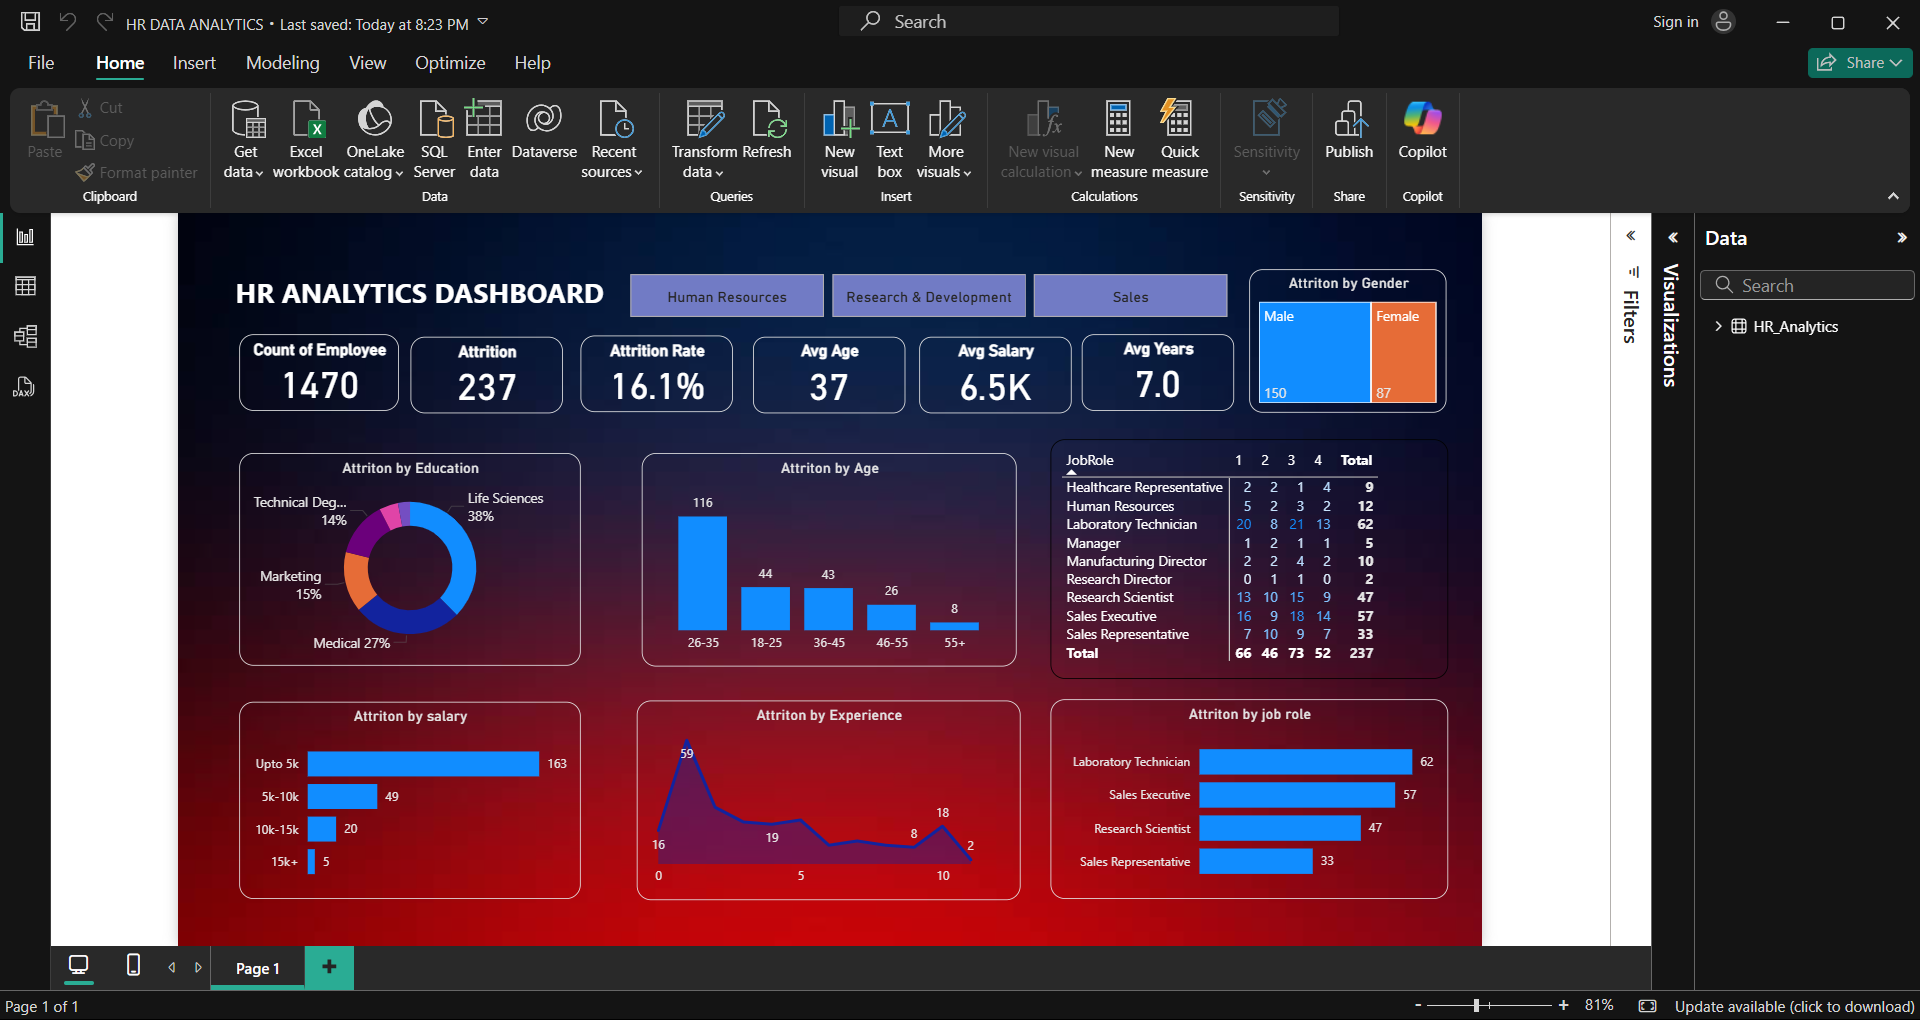

Layout of this report page (visuals, bound fields, positions):
{"tool":"powerbi","page":{"name":"Page 1","canvas":[1280,720],"ordinal":0},"visuals":[{"type":"card","title":"Count of Employee","fields":{"Values":["CountNonNull(HR_Analytics.EmpID)"]},"box":[60.1,119,157.1,74.8],"z":0},{"type":"card","title":"Attrition","fields":{"Values":["Sum(HR_Analytics.AttritionCount)"]},"box":[228.2,121.5,149.7,74.8],"z":1000},{"type":"card","title":"Attrition Rate","fields":{"Values":["HR_Analytics.AttritionRate"]},"box":[395.1,120.2,149.7,74.8],"z":2000},{"type":"card","title":"Avg Age","fields":{"Values":["Avg(HR_Analytics.Age)"]},"box":[564.4,121.5,149.7,74.8],"z":3000},{"type":"card","title":"Avg Salary","fields":{"Values":["Avg(HR_Analytics.MonthlyIncome)"]},"box":[727.6,121.5,149.7,74.8],"z":4000},{"type":"card","title":"Avg Years","fields":{"Values":["Avg(HR_Analytics.YearsAtCompany)"]},"box":[887.1,119,149.7,74.8],"z":5000},{"type":"donutChart","title":"Attriton by Education","fields":{"Category":["HR_Analytics.EducationField"],"Y":["Sum(HR_Analytics.AttritionCount)"]},"box":[60.1,235.6,335,208.6],"z":6000},{"type":"columnChart","title":"Attriton by Age","fields":{"Category":["HR_Analytics.AgeGroup"],"Y":["Sum(HR_Analytics.AttritionCount)"]},"box":[455.2,235.6,368.1,209.8],"z":7000},{"type":"pivotTable","fields":{"Rows":["HR_Analytics.JobRole"],"Columns":["HR_Analytics.JobSatisfaction"],"Values":["Sum(HR_Analytics.AttritionCount)"]},"box":[856.4,222.1,390.2,235.6],"z":8000},{"type":"barChart","title":"Attriton by salary","fields":{"Category":["HR_Analytics.SalarySlab"],"Y":["Sum(HR_Analytics.AttritionCount)"]},"box":[60.1,479.8,335,193.9],"z":9000},{"type":"barChart","title":"Attriton by job role","fields":{"Category":["HR_Analytics.JobRole"],"Y":["Sum(HR_Analytics.AttritionCount)"]},"box":[856.4,477.3,390.2,196.3],"z":10000},{"type":"areaChart","title":"Attriton by Experience","fields":{"Category":["HR_Analytics.YearsAtCompany"],"Y":["Sum(HR_Analytics.AttritionCount)"]},"box":[450.3,478.5,376.7,196.3],"z":11000},{"type":"treemap","title":"Attriton by Gender","fields":{"Group":["HR_Analytics.Gender"],"Values":["Sum(HR_Analytics.AttritionCount)"]},"box":[1051.5,55.2,193.9,141.1],"z":12000},{"type":"advancedSlicerVisual","fields":{"Values":["HR_Analytics.Department"]},"box":[439.3,55.2,597.5,52.8],"z":13000},{"type":"textbox","box":[51.5,55.2,387.7,52.8],"z":14000}]}

Visuals, with their boxes on the page's 1280x720 design canvas (x1, y1, x2, y2). These are canvas units, not pixel positions in the 1920x1020 screenshot, which may show the page scaled, cropped or inside an application window:
"Count of Employee" card: Rect(60, 119, 217, 194)
"Attrition" card: Rect(228, 122, 378, 196)
"Attrition Rate" card: Rect(395, 120, 545, 195)
"Avg Age" card: Rect(564, 122, 714, 196)
"Avg Salary" card: Rect(728, 122, 877, 196)
"Avg Years" card: Rect(887, 119, 1037, 194)
"Attriton by Education" donutChart: Rect(60, 236, 395, 444)
"Attriton by Age" columnChart: Rect(455, 236, 823, 445)
pivotTable - HR_Analytics.JobRole x HR_Analytics.JobSatisfaction: Rect(856, 222, 1247, 458)
"Attriton by salary" barChart: Rect(60, 480, 395, 674)
"Attriton by job role" barChart: Rect(856, 477, 1247, 674)
"Attriton by Experience" areaChart: Rect(450, 478, 827, 675)
"Attriton by Gender" treemap: Rect(1052, 55, 1245, 196)
advancedSlicerVisual - HR_Analytics.Department: Rect(439, 55, 1037, 108)
textbox: Rect(52, 55, 439, 108)
